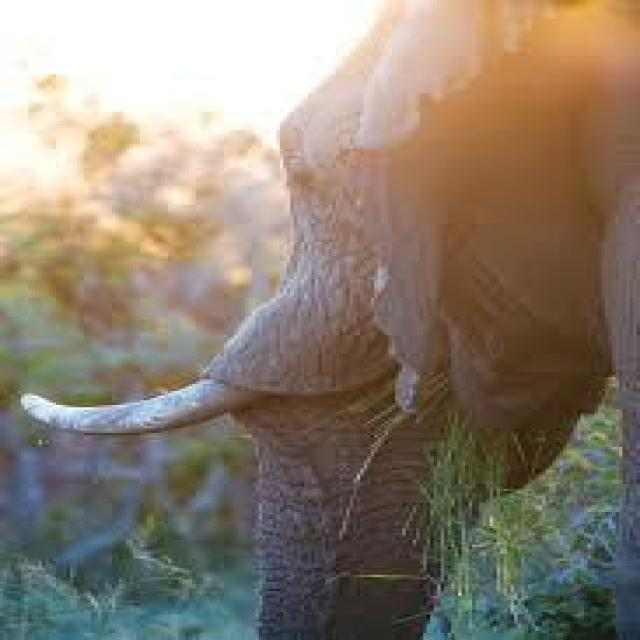Elephant: (186, 4, 636, 624)
